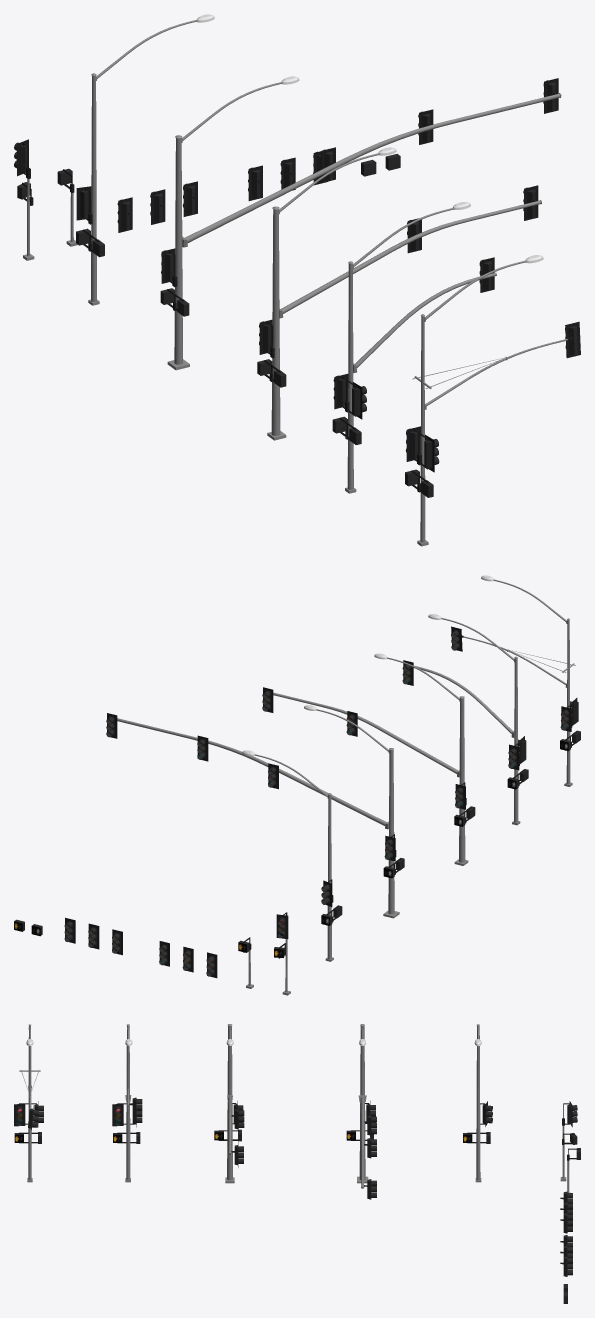
Rendered from retro-traffic-signals.glb.
The picture shows the model from 3 angles, top to bottom: view 1: azimuth 30°, elevation 25°; view 2: azimuth 150°, elevation 25°; view 3: azimuth 270°, elevation 25°; orthographic projection. The views are drawn at different scales.
Parts seen in each view (by area): view 1: Cylinder 27.001_12, Cube 9.001_11, Cylinder 31_2, Cylinder 27_0, Cube 16.004_54, Cube 9.002_4, Cube 10.003_45, Cylinder 30.004_6, Cube_53; view 2: Cylinder 27.001_12, Cylinder 31_2, Cube 9.001_11, Cylinder 27_0, Cube 9.002_4, Cube 16.004_54; view 3: Cylinder 31_2, Cube 9.001_11, Cube 16.004_54, Cube 9.002_4, Cube 10.003_45.
Boxes of the visible parts, x1,y1,x2,y2 form: Cylinder 27.001_12: (185,93,561,243); Cube 9.001_11: (167,135,189,370); Cylinder 31_2: (267,206,286,440); Cylinder 27_0: (281,200,541,313); Cube 16.004_54: (88,73,99,305); Cube 9.002_4: (345,261,356,493); Cube 10.003_45: (417,314,428,546); Cylinder 30.004_6: (355,272,496,367); Cube_53: (412,339,567,405); Cylinder 27.001_12: (117,718,386,825); Cylinder 31_2: (454,696,468,865); Cube 9.001_11: (383,748,399,918); Cylinder 27_0: (273,692,458,773); Cube 9.002_4: (511,656,520,825); Cube 16.004_54: (325,793,333,961); Cylinder 31_2: (225,1024,234,1183); Cube 9.001_11: (357,1024,368,1183); Cube 16.004_54: (475,1024,481,1182); Cube 9.002_4: (125,1024,131,1182); Cube 10.003_45: (27,1024,32,1182).
Size of the model in its own units: 6.1 by 3.83 by 11.06.
Materials: 28 (26 with a texture image).
